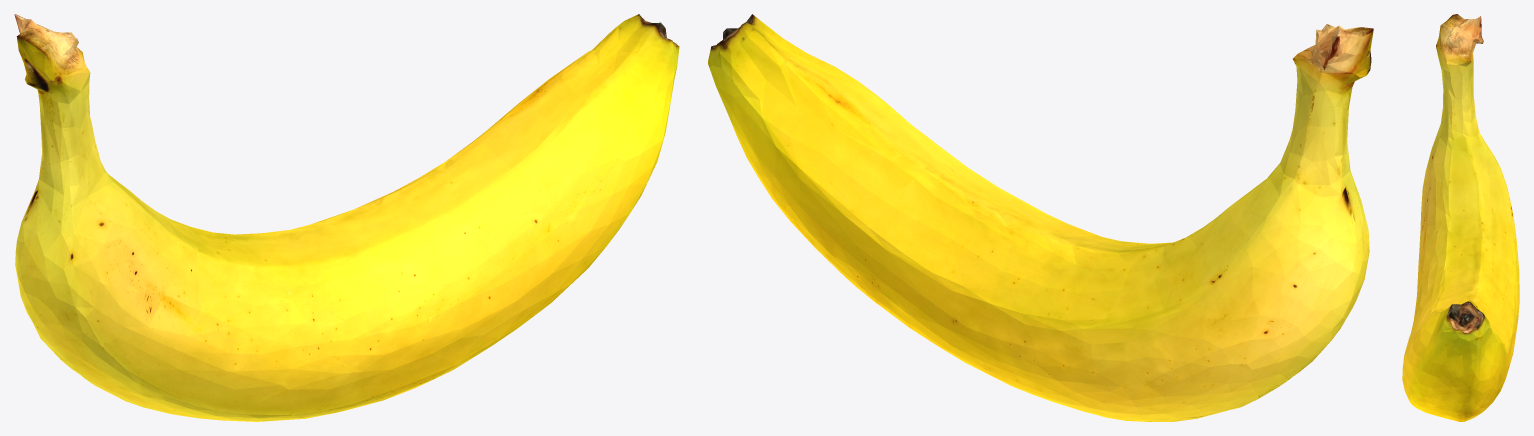
The model's file is banana-v1.glb.
3 renders of one model, left to right at view 1: azimuth 30°, elevation 25°; view 2: azimuth 150°, elevation 25°; view 3: azimuth 270°, elevation 25°, orthographic. The views are drawn at different scales.
Parts seen in each view (by area): view 1: banana; view 2: banana; view 3: banana.
Part boxes in pixels (<box>): banana: <box>14,14,679,421</box>; banana: <box>708,14,1373,421</box>; banana: <box>1402,14,1519,421</box>.
Bounding box in the file's own units: 6.79 × 4.44 × 1.61.
Materials: 1 (1 with a texture image).
